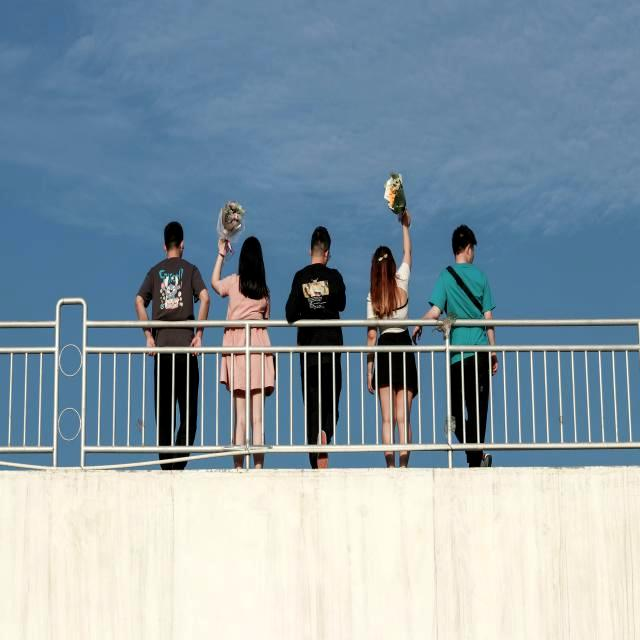no_head_wear: (370, 246, 408, 319), (238, 236, 270, 300), (452, 224, 477, 254), (310, 226, 331, 257), (164, 221, 184, 250)
person: (412, 226, 501, 469), (134, 220, 214, 470), (282, 225, 348, 472), (210, 232, 277, 472), (364, 203, 419, 472)
